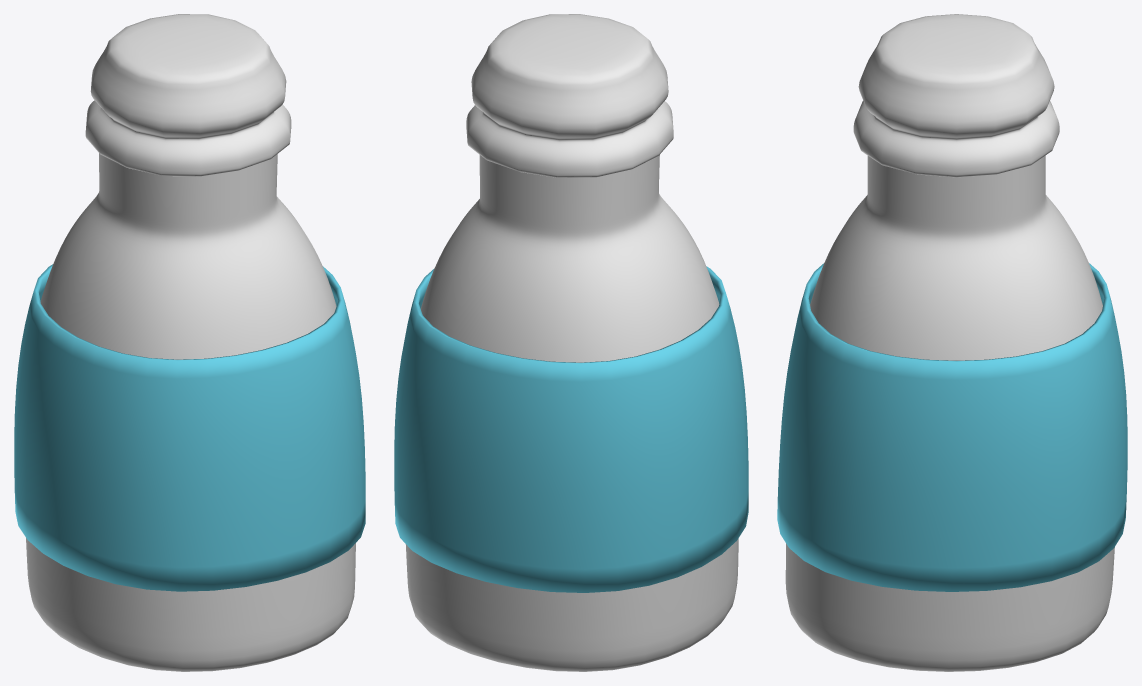
File: SM_Bottles.fbx
The picture shows the model from 3 angles, left to right: view 1: azimuth 30°, elevation 25°; view 2: azimuth 150°, elevation 25°; view 3: azimuth 270°, elevation 25°; orthographic projection.
Visible parts, largest first — view 1: Label.005, Bottle.005, Cap.005; view 2: Label.005, Bottle.005, Cap.005; view 3: Label.005, Bottle.005, Cap.005.
Boxes of the visible parts, x1=… form: Label.005: x1=14, y1=264, x2=365, y2=591; Bottle.005: x1=26, y1=153, x2=355, y2=671; Cap.005: x1=85, y1=14, x2=291, y2=176; Label.005: x1=394, y1=266, x2=748, y2=592; Bottle.005: x1=405, y1=155, x2=738, y2=671; Cap.005: x1=466, y1=14, x2=673, y2=177; Label.005: x1=777, y1=263, x2=1127, y2=591; Bottle.005: x1=785, y1=155, x2=1114, y2=671; Cap.005: x1=853, y1=14, x2=1059, y2=177.
Bounding box in the file's own units: 10.61 × 19.39 × 10.75.
